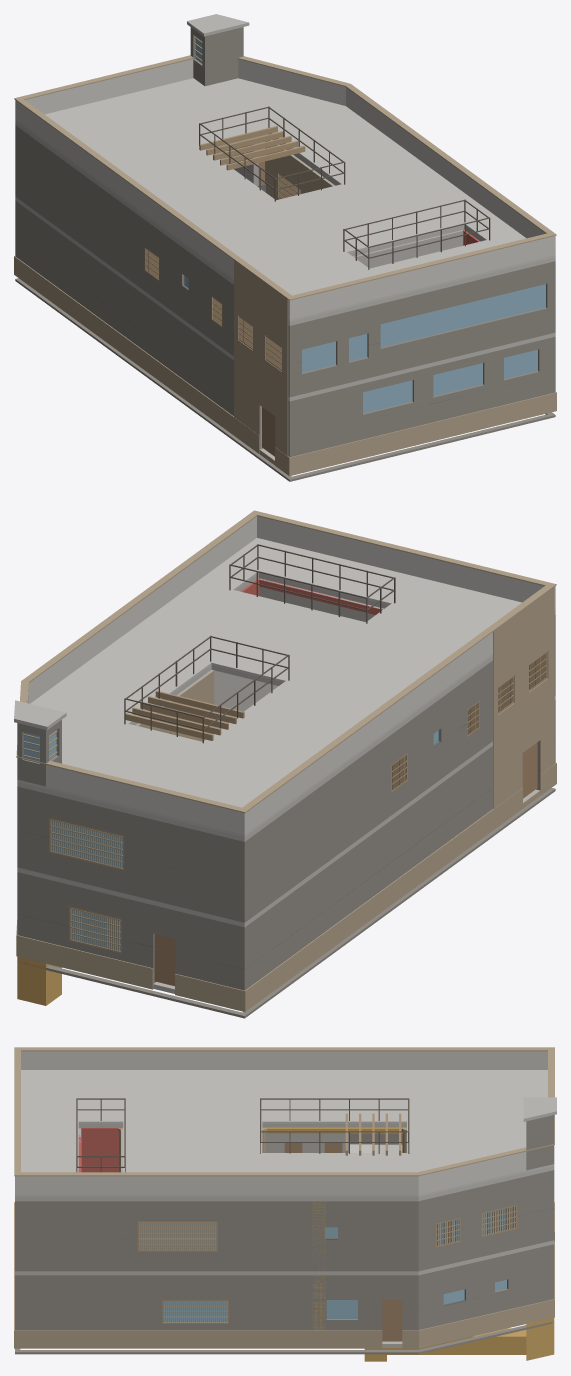
Rendered from taif_house_V6.2.glb.
3 renders of one model, top to bottom at view 1: azimuth 30°, elevation 25°; view 2: azimuth 150°, elevation 25°; view 3: azimuth 270°, elevation 25°, orthographic. The views are drawn at different scales.
Visible parts, largest first — view 1: roof_finish_floor, gf_outer, chr_base_plaster_roof_parapet, ff_outer, chr_base_stone_plinth, chr_base_stone_feature_wall_00, chr_base_stone_roof_coping, ff_outer_sill57, ff_glass_057, ff_outer_head57, chr_base_bronze_roof_railings, roof_slab (+17 smaller); view 2: roof_finish_floor, ff_outer, gf_outer, chr_base_plaster_roof_parapet, chr_base_stone_plinth, chr_base_stone_feature_wall_00, chr_base_stone_roof_coping, chr_base_bronze_roof_railings, roof_slab, gf_air_outline, chr_pergola_timber_beams, chr_base_timber_mashrabiya_00 (+17 smaller); view 3: roof_finish_floor, ff_outer, gf_outer, chr_base_plaster_roof_parapet, chr_base_stone_plinth, chr_base_stone_roof_coping, roof_slab, gf_air_outline, ff_slab, chr_base_bronze_roof_railings, ff_glass_056, chr_base_timber_mashrabiya_07 (+29 smaller).
Boxes of the visible parts, x1,y1,x2,y2 form: roof_finish_floor: (15, 78, 555, 321); gf_outer: (15, 201, 555, 457); chr_base_plaster_roof_parapet: (15, 59, 555, 319); ff_outer: (15, 125, 555, 397); chr_base_stone_plinth: (14, 256, 556, 476); chr_base_stone_feature_wall_00: (234, 260, 288, 465); chr_base_stone_roof_coping: (14, 55, 556, 300); ff_outer_sill57: (380, 307, 547, 374); ff_glass_057: (380, 284, 545, 347); ff_outer_head57: (380, 263, 547, 323); chr_base_bronze_roof_railings: (199, 106, 490, 269); roof_slab: (15, 121, 555, 325); roof_finish_floor: (17, 538, 555, 837); ff_outer: (17, 615, 555, 922); gf_outer: (17, 700, 555, 990); chr_base_plaster_roof_parapet: (27, 516, 555, 834); chr_base_stone_plinth: (16, 763, 556, 1011); chr_base_stone_feature_wall_00: (493, 587, 554, 808); chr_base_stone_roof_coping: (16, 510, 556, 813); chr_base_bronze_roof_railings: (124, 544, 395, 743); roof_slab: (17, 573, 555, 841); gf_air_outline: (17, 788, 555, 1018); chr_pergola_timber_beams: (125, 690, 244, 740); chr_base_timber_mashrabiya_00: (49, 817, 124, 870); roof_finish_floor: (15, 1070, 554, 1197); ff_outer: (15, 1133, 554, 1271); gf_outer: (15, 1244, 554, 1330); chr_base_plaster_roof_parapet: (15, 1051, 547, 1194); chr_base_stone_plinth: (14, 1202, 554, 1348); chr_base_stone_roof_coping: (14, 1047, 554, 1176); roof_slab: (15, 1123, 554, 1201); gf_air_outline: (15, 1321, 552, 1354); ff_slab: (15, 1240, 554, 1275); chr_base_bronze_roof_railings: (76, 1098, 409, 1172); ff_glass_056: (139, 1223, 216, 1249); chr_base_timber_mashrabiya_07: (137, 1221, 217, 1251).
Bounding box in the file's own units: 13.64 × 12.19 × 24.42.
